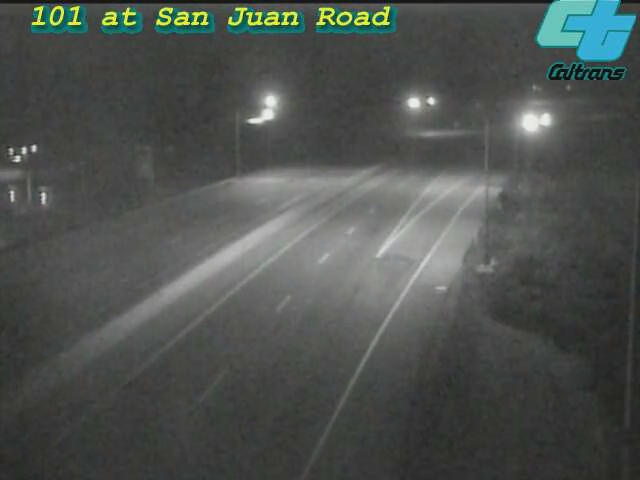vehicle: (502, 98, 552, 148), (516, 95, 566, 145)
